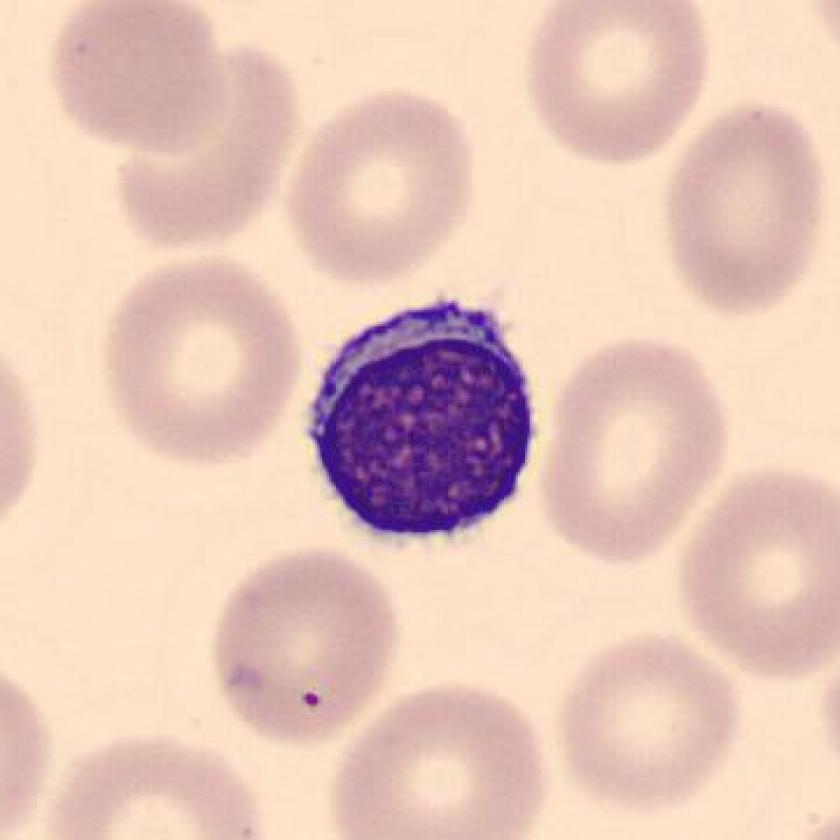lymphocyte: (291, 288, 557, 563)
